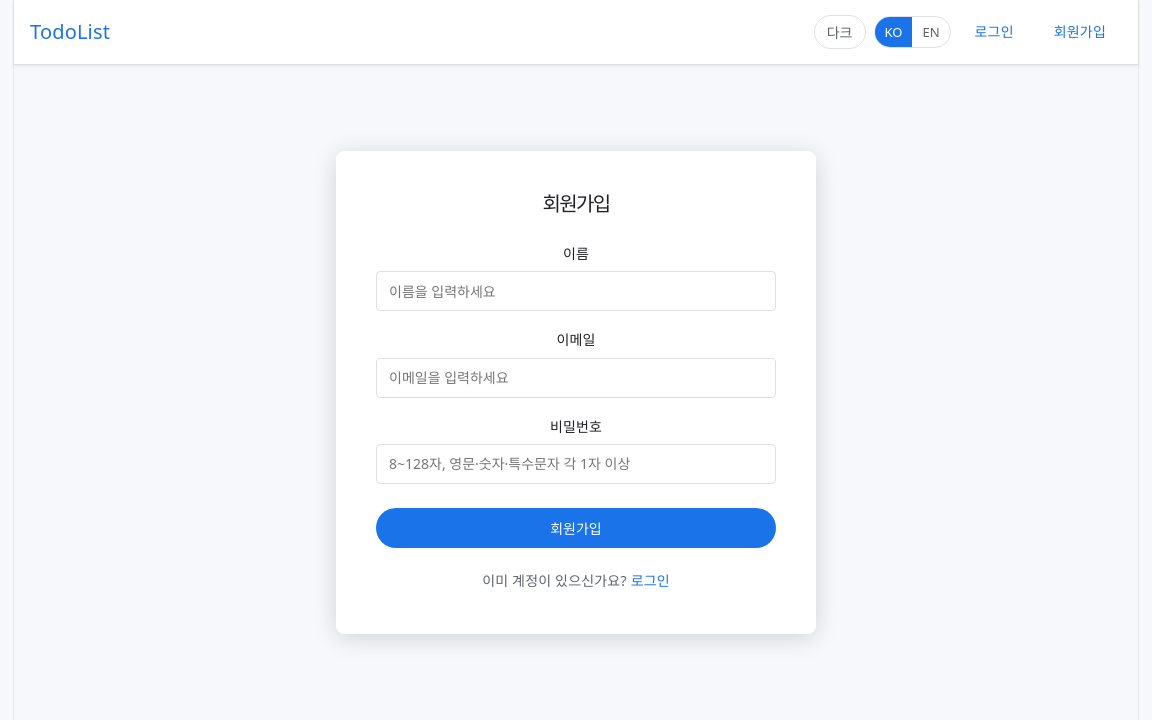
it: RegisterPage › 이메일 중복 시 409 에러 메시지를 표시한다
Type "홍길동" into the field labelled "이름".
click(576, 292); type("홍길동")  # box top-left (376, 272), bottom-right (776, 312)
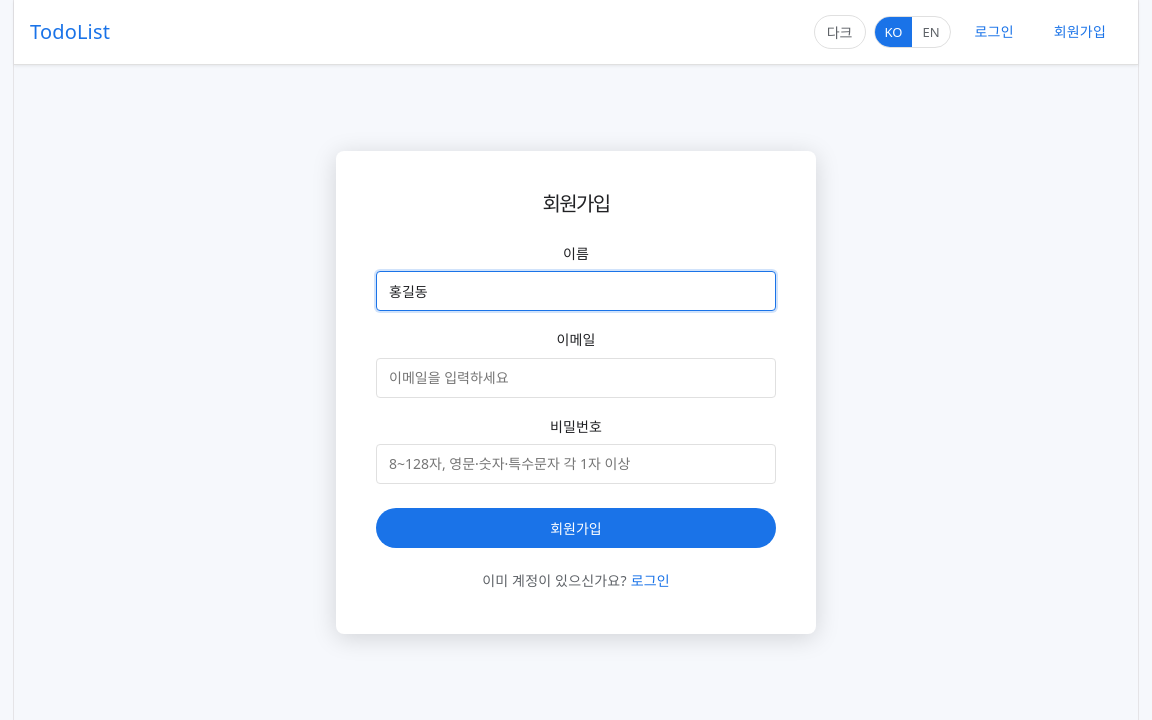
Type "dup@example.com" into the field labelled "이메일".
click(576, 378); type("dup@example.com")  # box top-left (376, 358), bottom-right (776, 398)
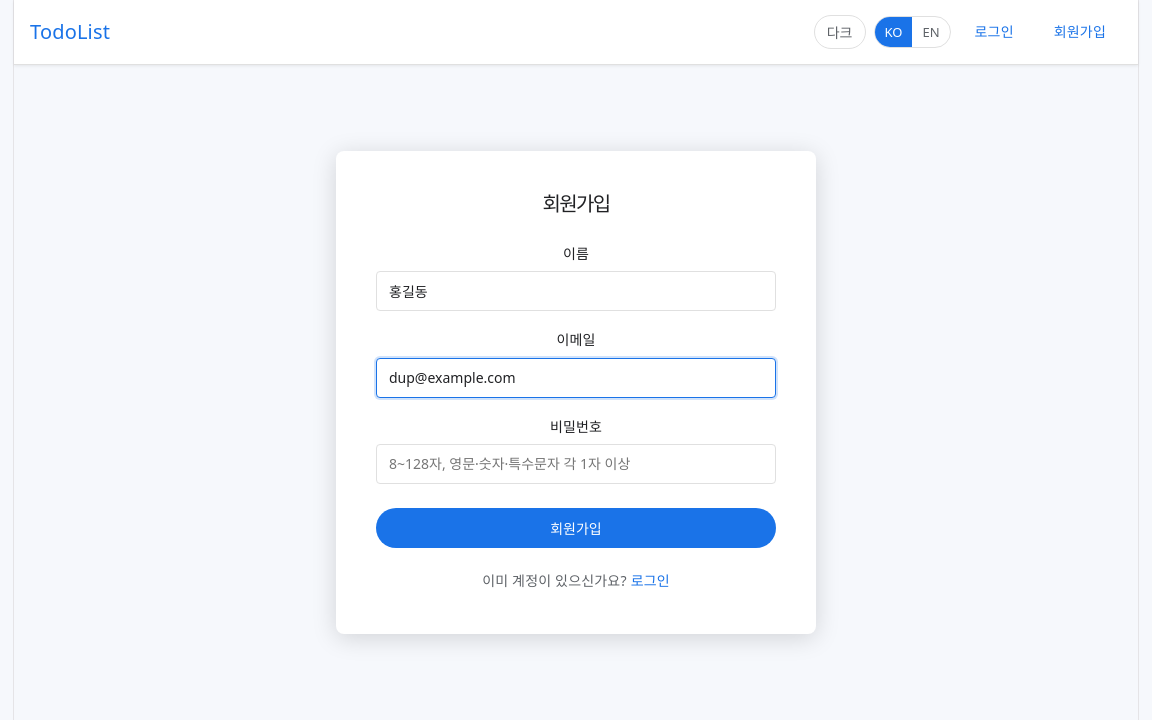
Type "Pass123!" into the password field labelled "비밀번호".
click(576, 464); type("Pass123!")  # box top-left (376, 444), bottom-right (776, 484)
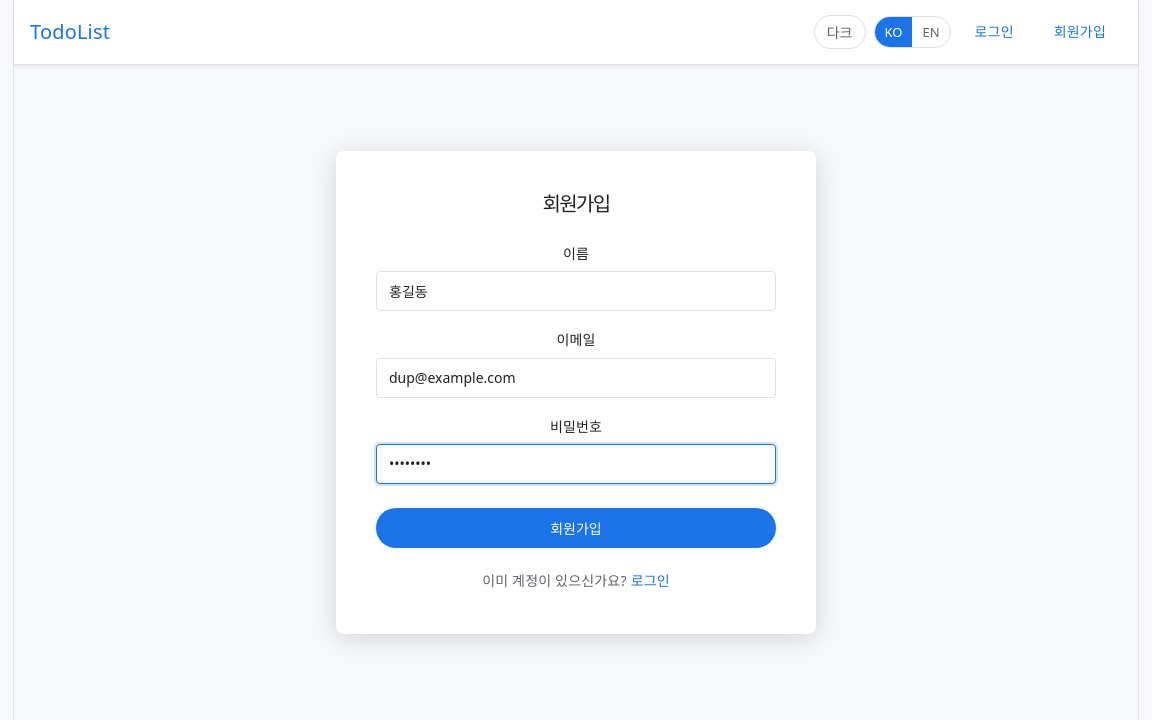
Click the button "회원가입".
click(576, 528)  # box top-left (376, 508), bottom-right (776, 548)
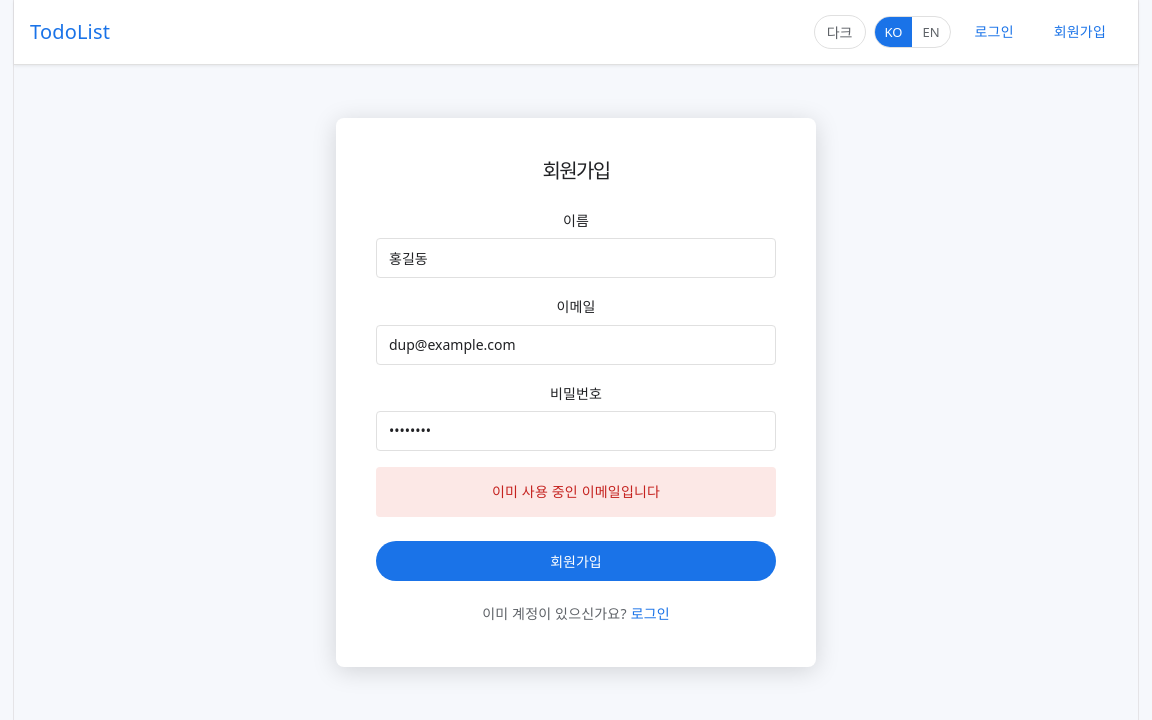
Check: the message reads "이미 사용 중인 이메일입니다", box top-left (492, 482), bottom-right (660, 501)
